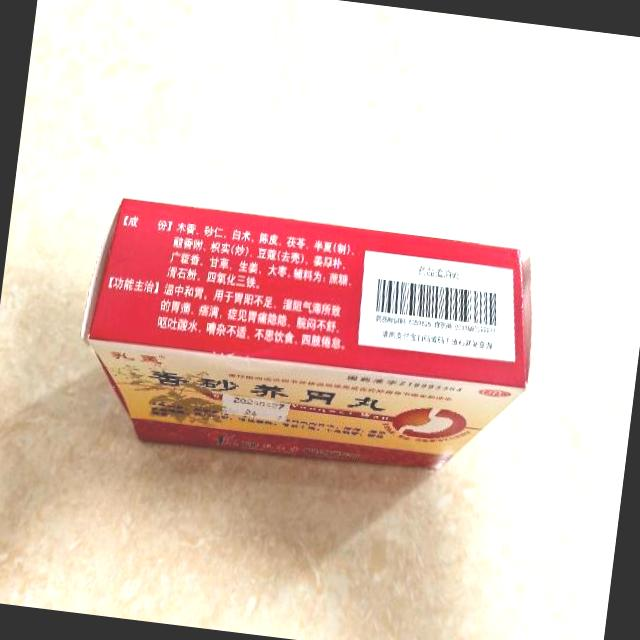box: (68, 191, 544, 486)
